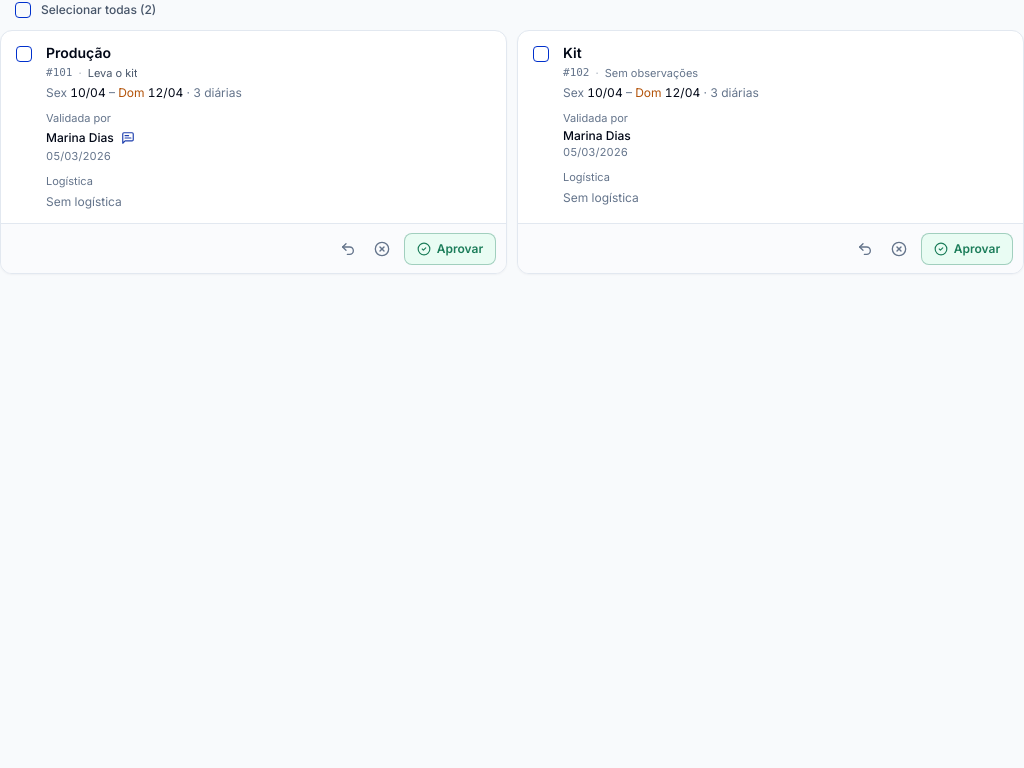
Test: Aprovação → detalhe da vaga no estilo da Validação › Enter na linha abre; ‹ › e as setas do teclado andam pela lista da aba
Press Enter
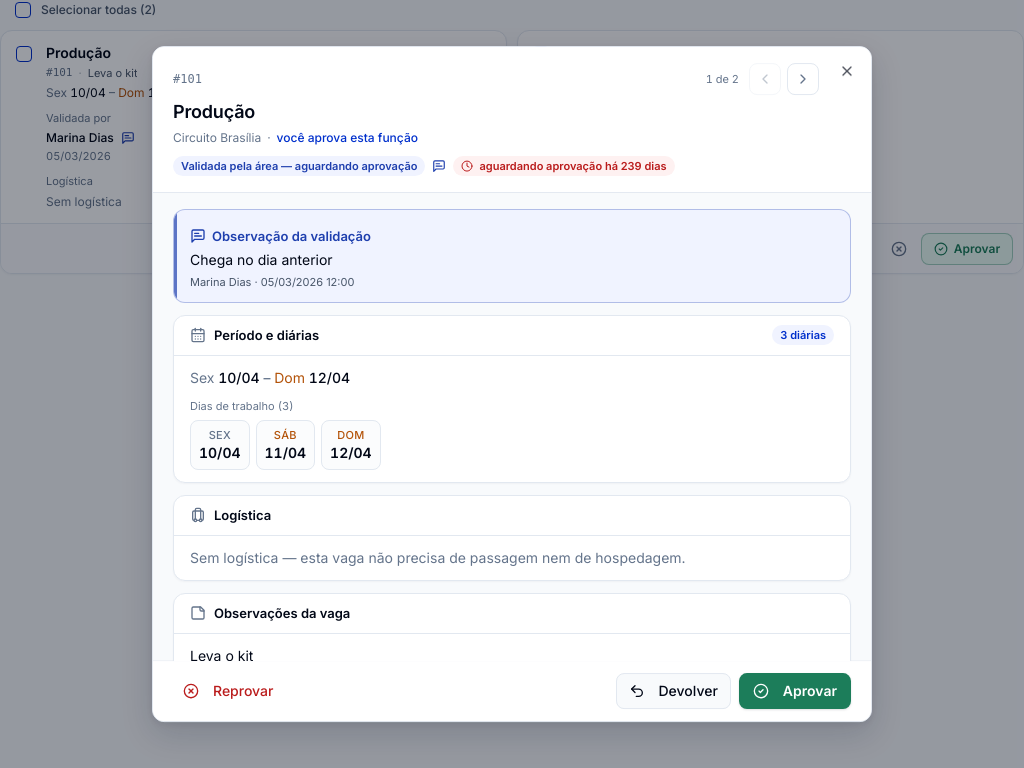
Expected: the button named "Vaga anterior" is disabled, [749, 63, 781, 95]
Click the button named "Próxima vaga": (803, 79) [787, 63, 819, 95]
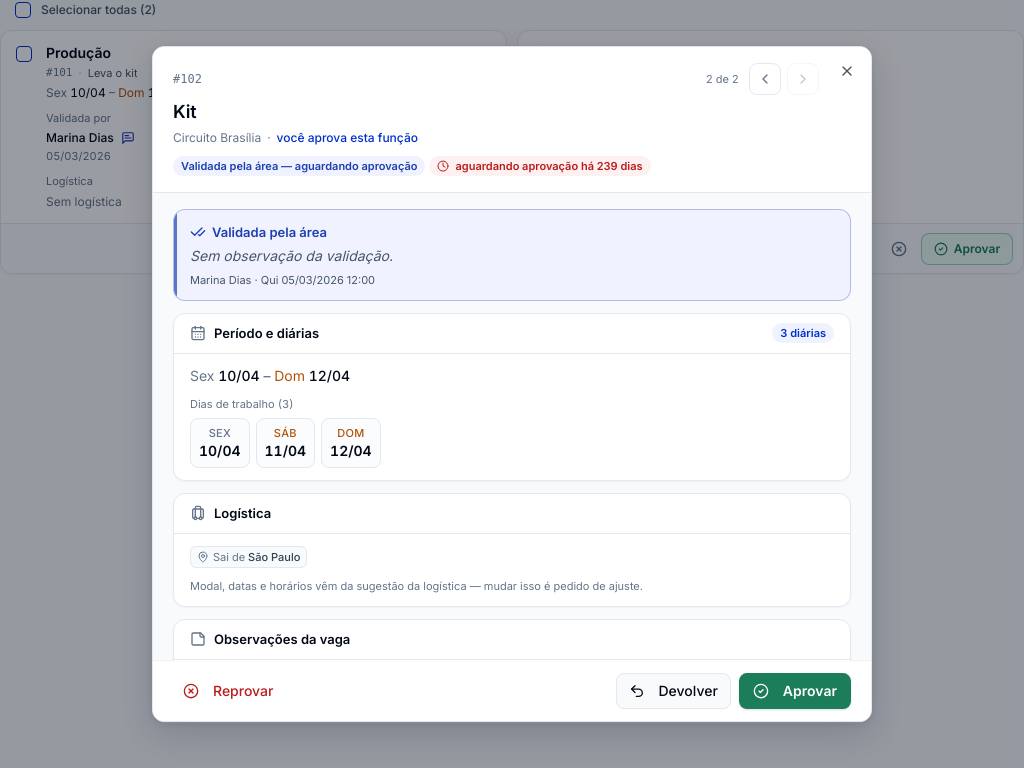
Expected: the dialog with test id "detalhe-da-vaga" shows "2 de 2"
Expected: the heading "Kit" is shown, [173, 101, 196, 122]
Press Arrowleft
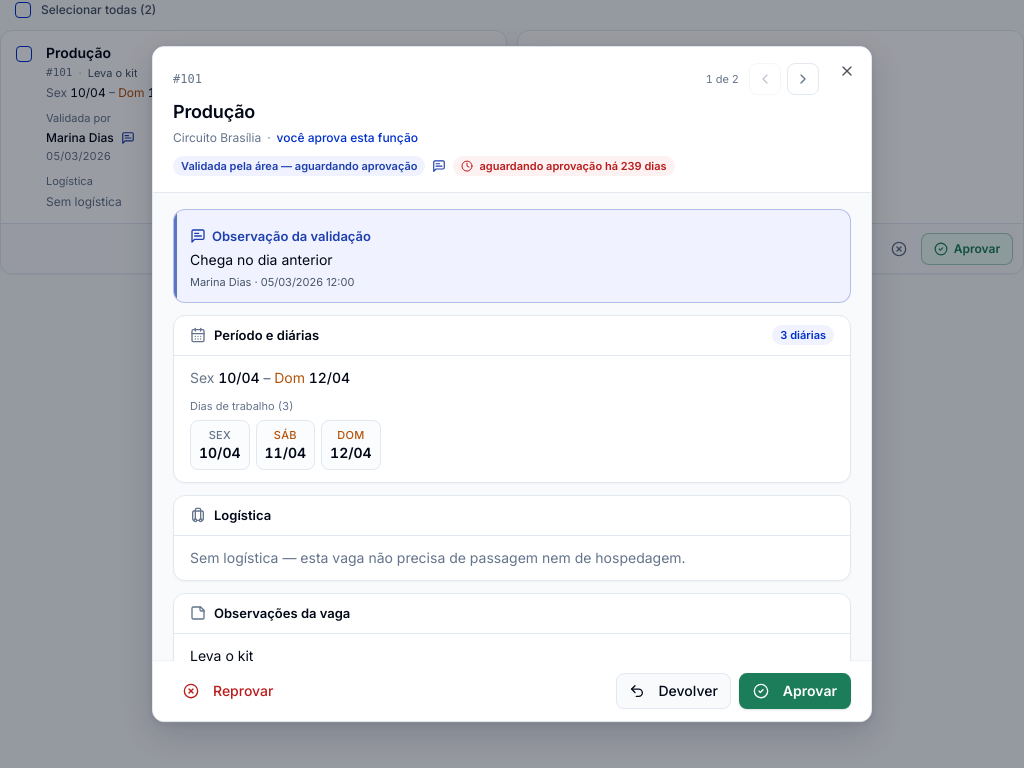
Expected: the dialog with test id "detalhe-da-vaga" shows "#101"
